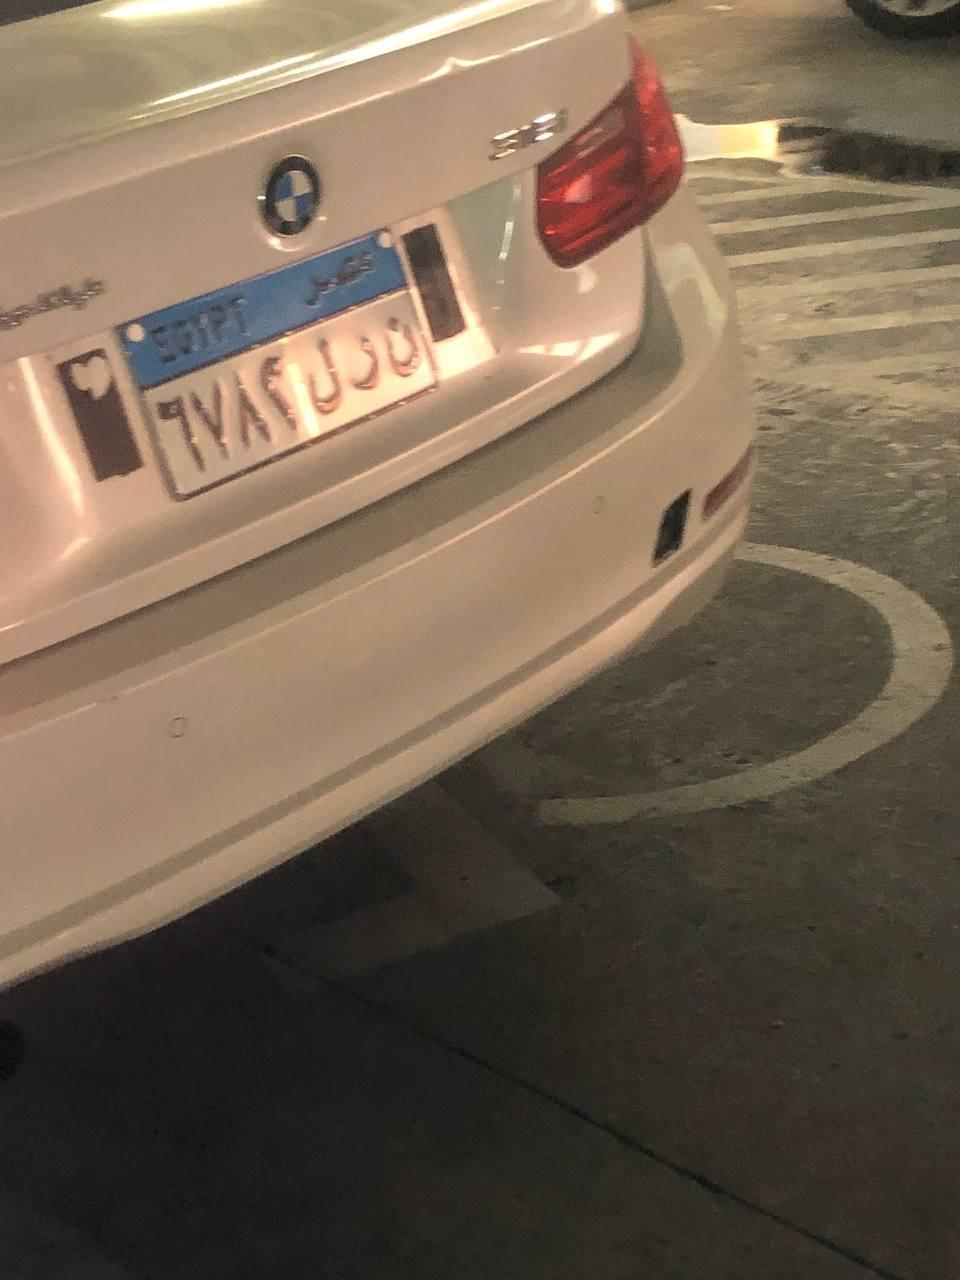2: (254, 350, 306, 436)
6: (148, 398, 205, 480)
7: (192, 379, 238, 463)
8: (225, 376, 278, 456)
Laam: (304, 330, 350, 426)
License Plate: (111, 222, 446, 507)
Noon: (381, 308, 432, 378)
R: (348, 334, 391, 391)
